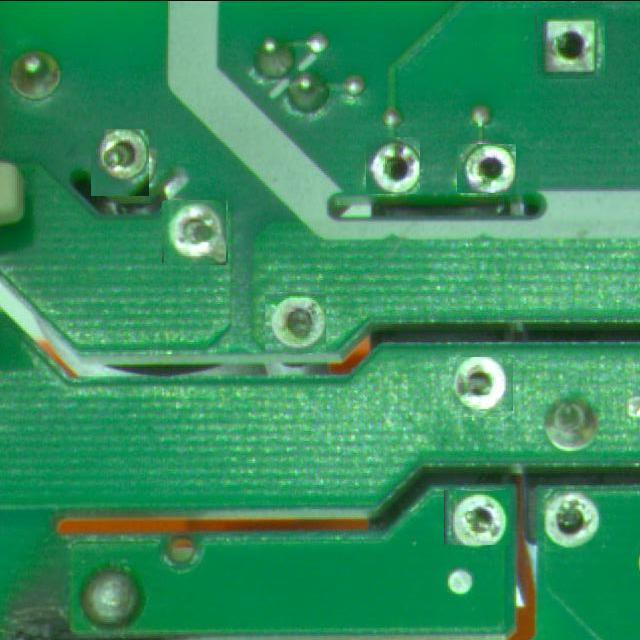lack_of_part: (536, 8, 606, 78), (163, 200, 227, 264), (89, 131, 152, 194), (264, 292, 326, 354), (447, 487, 508, 548), (451, 355, 511, 414), (366, 137, 422, 193), (456, 143, 516, 193)
